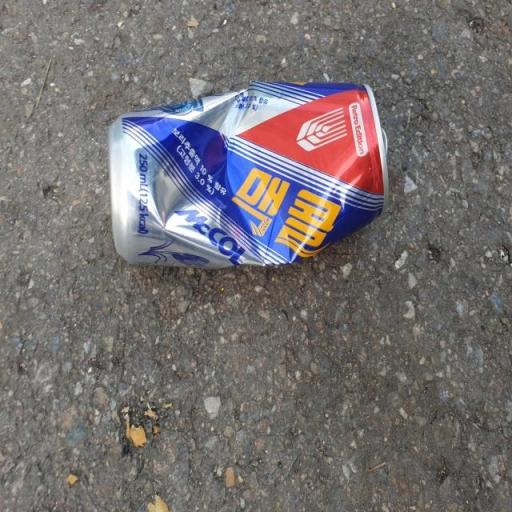metal: (53, 52, 424, 321)
